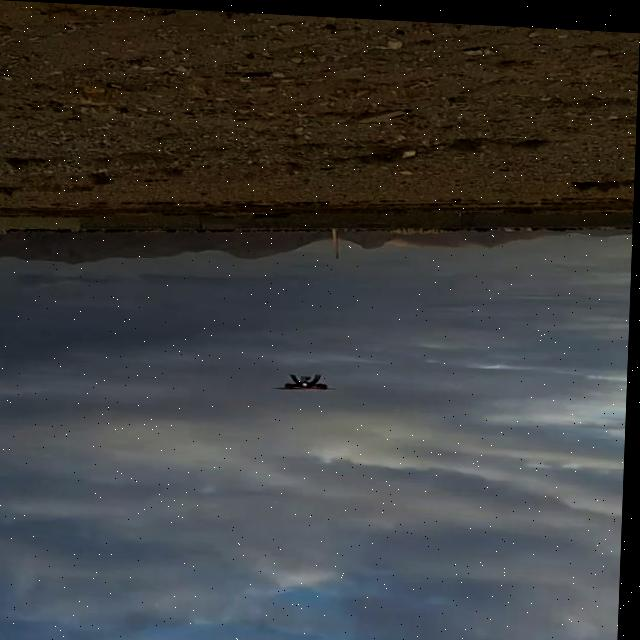drone: (267, 363, 344, 394)
